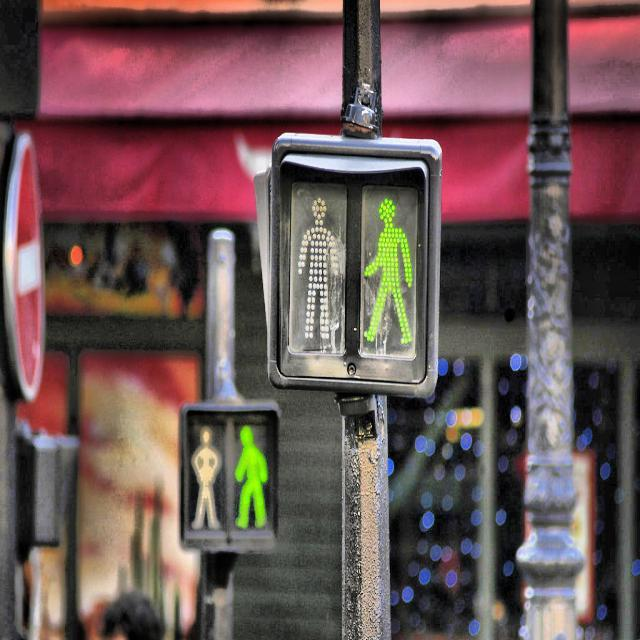green_light: (361, 192, 414, 348), (232, 423, 270, 530)
